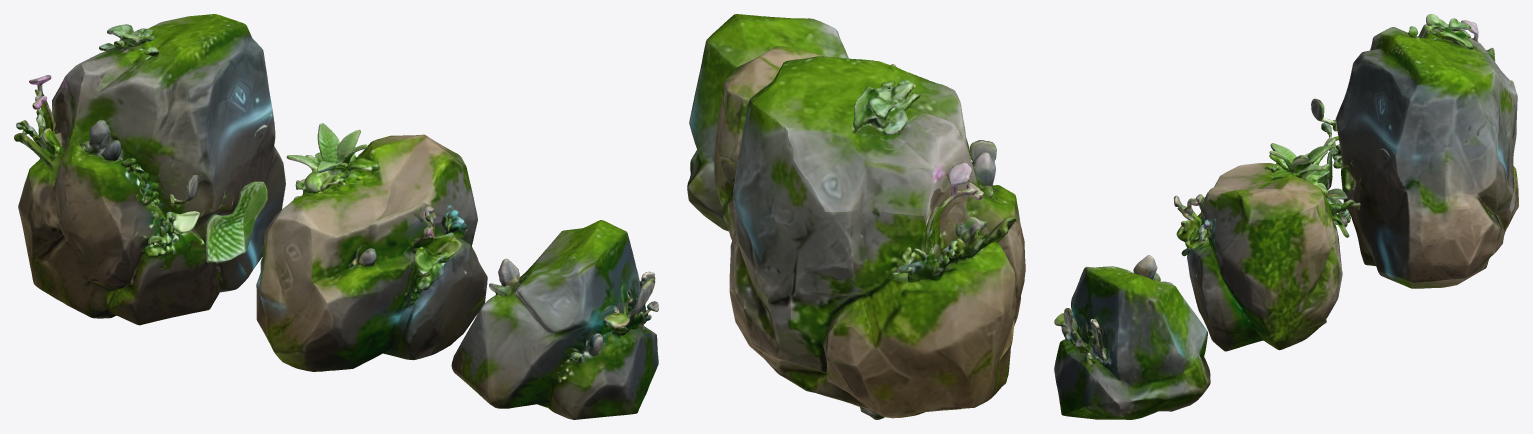
Rendered from moon-moss-rock.glb.
The picture shows the model from 3 angles, left to right: view 1: azimuth 30°, elevation 25°; view 2: azimuth 150°, elevation 25°; view 3: azimuth 270°, elevation 25°; orthographic projection. The views are drawn at different scales.
Visible parts, largest first — view 1: geometry_0; view 2: geometry_0; view 3: geometry_0.
Part boxes in pixels (<box>): geometry_0: <box>14,14,658,419</box>; geometry_0: <box>687,14,1025,419</box>; geometry_0: <box>1054,14,1518,419</box>.
Bounding box in the file's own units: 0.7905 × 0.52 × 0.7927.
Materials: 1 (1 with a texture image).
